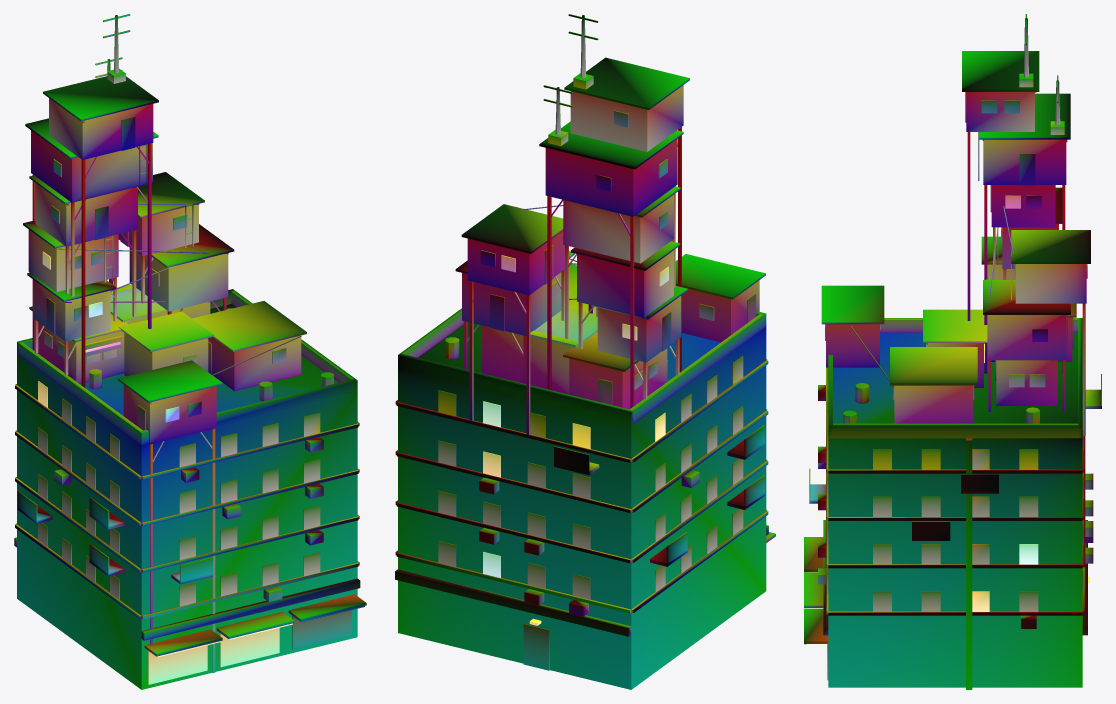
File: Slum_Tower.fbx
The picture shows the model from 3 angles, left to right: view 1: azimuth 30°, elevation 25°; view 2: azimuth 150°, elevation 25°; view 3: azimuth 270°, elevation 25°; orthographic projection. The views are drawn at different scales.
Visible parts, largest first — view 1: Slum_Tower_LOD0; view 2: Slum_Tower_LOD0; view 3: Slum_Tower_LOD0.
Boxes of the visible parts, x1=… form: Slum_Tower_LOD0: x1=14, y1=14, x2=366, y2=689; Slum_Tower_LOD0: x1=395, y1=14, x2=775, y2=689; Slum_Tower_LOD0: x1=804, y1=14, x2=1101, y2=689.
Size of what is drawn, in the model's own units: 16.8 by 37.85 by 17.1.
